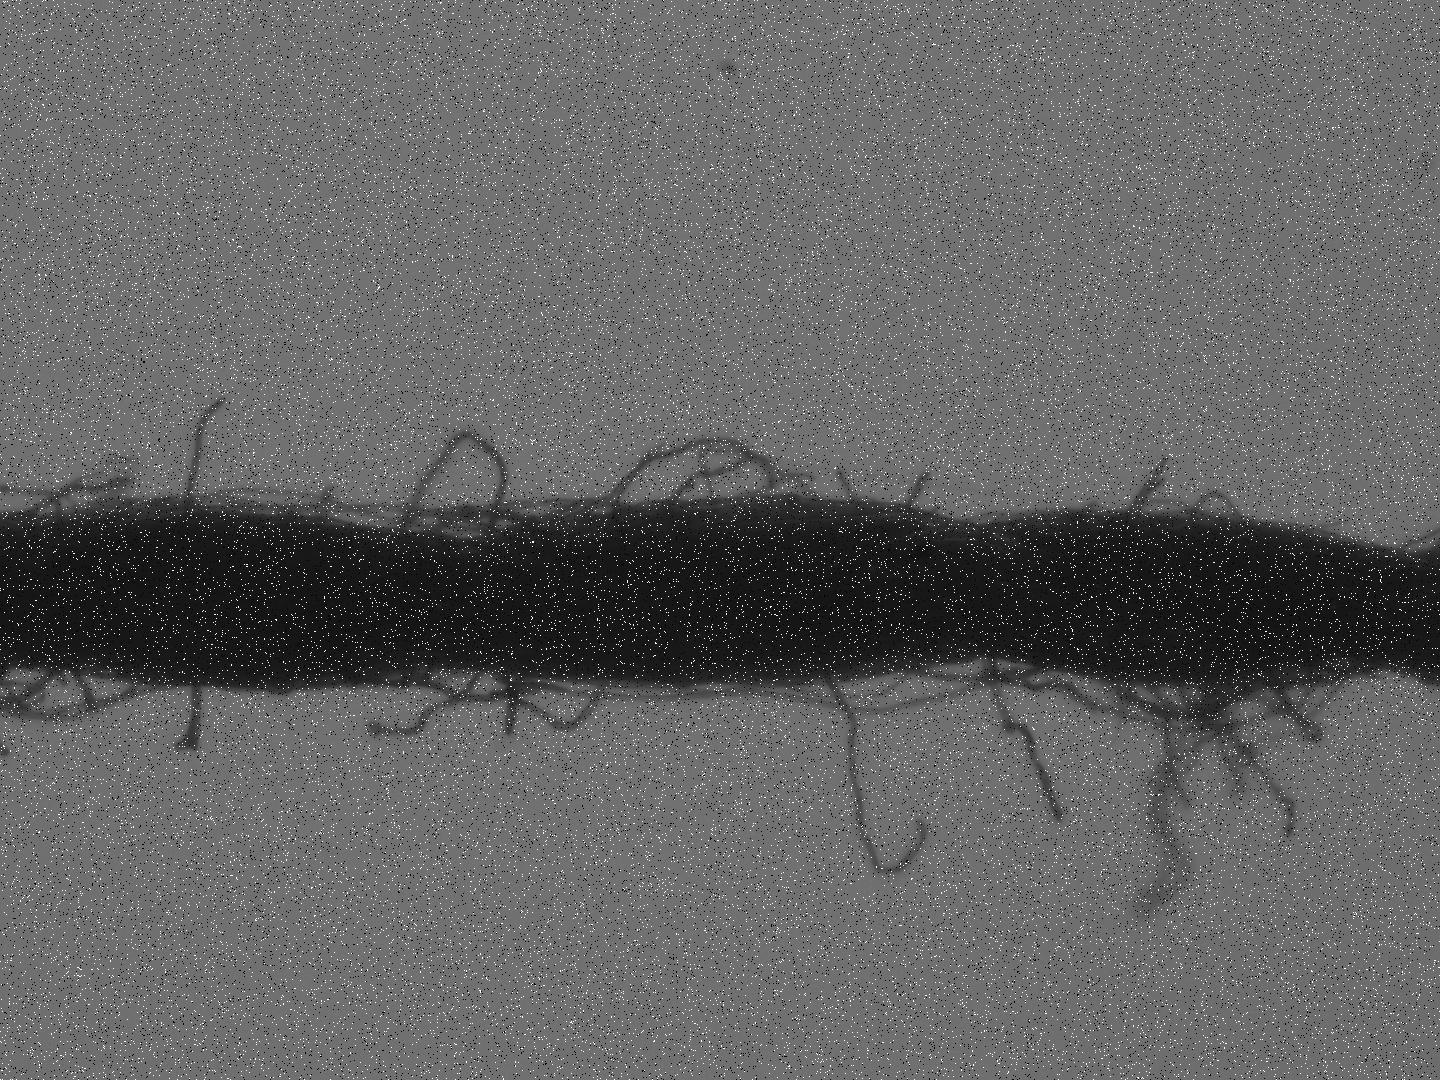loop_fiber: (387, 428, 545, 552), (587, 438, 825, 518), (1, 663, 169, 723), (1100, 668, 1262, 728), (495, 677, 611, 736), (395, 660, 534, 708), (1184, 490, 1250, 540)
protruding_fiber: (828, 663, 926, 874), (177, 390, 229, 513), (899, 463, 935, 512)
